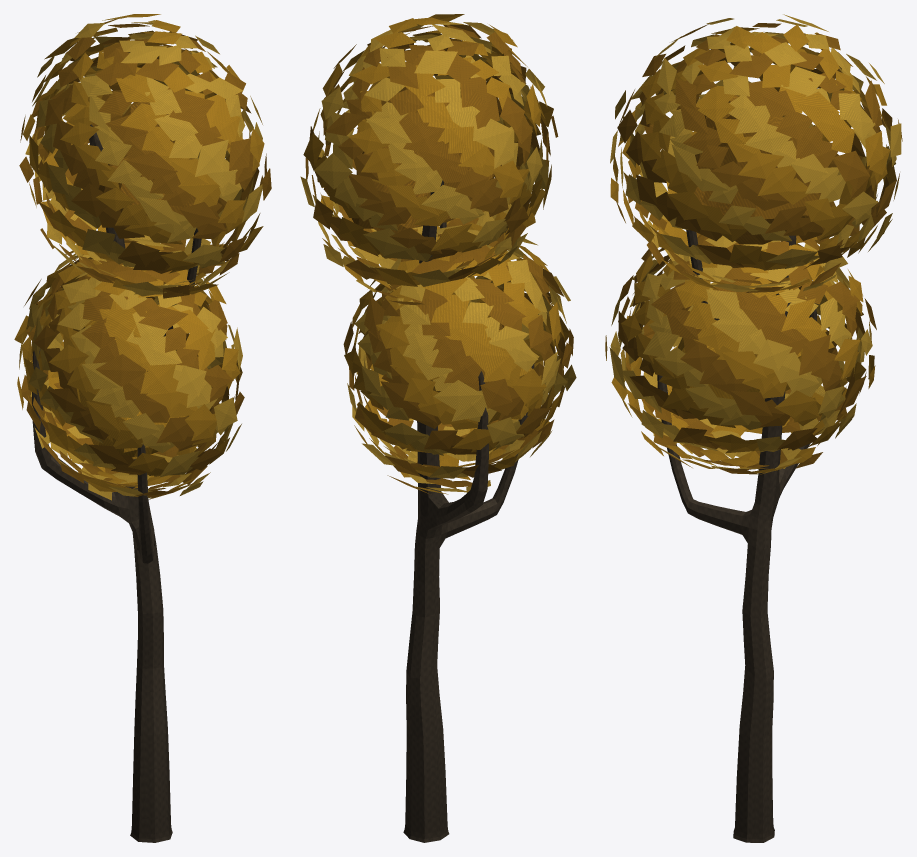
File: autumn-tree-golden.glb
The picture shows the model from 3 angles, left to right: view 1: azimuth 30°, elevation 25°; view 2: azimuth 150°, elevation 25°; view 3: azimuth 270°, elevation 25°; orthographic projection.
Visible parts, largest first — view 1: autumn-tree-golden-leaf-envelope-2, autumn-tree-golden-leaf-envelope-1, autumn-tree-golden-trunk-and-branches, autumn-tree-golden-canopy-lobe-1, autumn-tree-golden-canopy-lobe-2; view 2: autumn-tree-golden-leaf-envelope-2, autumn-tree-golden-leaf-envelope-1, autumn-tree-golden-trunk-and-branches, autumn-tree-golden-canopy-lobe-2; view 3: autumn-tree-golden-leaf-envelope-2, autumn-tree-golden-leaf-envelope-1, autumn-tree-golden-trunk-and-branches, autumn-tree-golden-canopy-lobe-2.
Part boxes in pixels (bbox=[...]): autumn-tree-golden-leaf-envelope-2: bbox=[19, 14, 271, 298]; autumn-tree-golden-leaf-envelope-1: bbox=[14, 238, 244, 500]; autumn-tree-golden-trunk-and-branches: bbox=[32, 124, 201, 842]; autumn-tree-golden-canopy-lobe-1: bbox=[73, 301, 183, 459]; autumn-tree-golden-canopy-lobe-2: bbox=[98, 102, 195, 215]; autumn-tree-golden-leaf-envelope-2: bbox=[300, 14, 558, 305]; autumn-tree-golden-leaf-envelope-1: bbox=[343, 225, 576, 494]; autumn-tree-golden-trunk-and-branches: bbox=[403, 180, 534, 842]; autumn-tree-golden-canopy-lobe-2: bbox=[351, 87, 494, 233]; autumn-tree-golden-leaf-envelope-2: bbox=[610, 14, 902, 292]; autumn-tree-golden-leaf-envelope-1: bbox=[605, 234, 876, 474]; autumn-tree-golden-trunk-and-branches: bbox=[657, 230, 816, 842]; autumn-tree-golden-canopy-lobe-2: bbox=[694, 95, 835, 244].
Bounding box in the file's own units: 2.87 × 10.41 × 3.48.
Materials: 6 (6 with a texture image).
